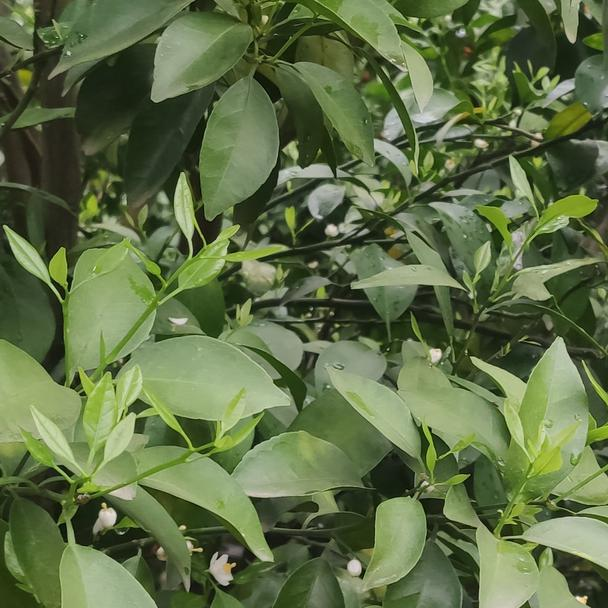shoot: (118, 191, 282, 347), (122, 388, 267, 494), (8, 222, 110, 365), (26, 391, 136, 513), (493, 170, 600, 288), (501, 402, 581, 481)
